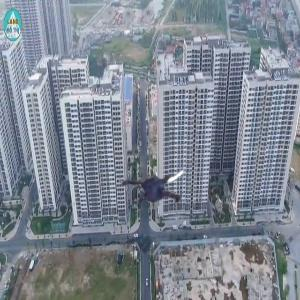drone: (118, 146, 202, 230)
